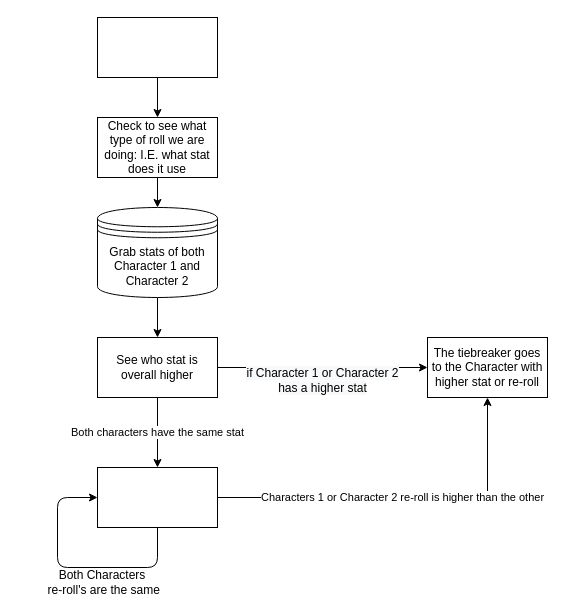
This 565x615 diagram has some shape labels left out. The shapes that lost their labels are listed below. From the top down, each one's centre as x and y in pixels, then its label:
At (x=157, y=47): "Situation: 2 Characters got the same number on the DC".
At (x=157, y=497): "Both re-roll again".
